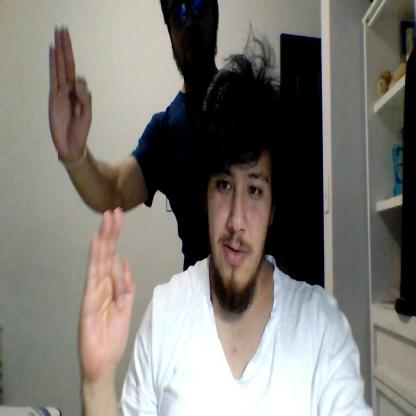F: (76, 207, 136, 370), (48, 23, 92, 158)
